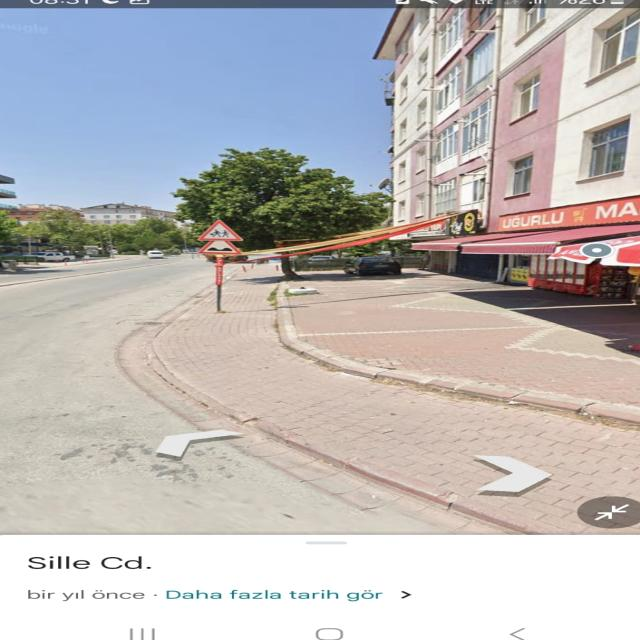okul_gecidi: (197, 219, 244, 241)
